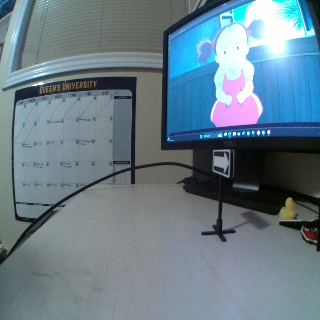sign_oneway_right: (211, 149, 232, 177)
